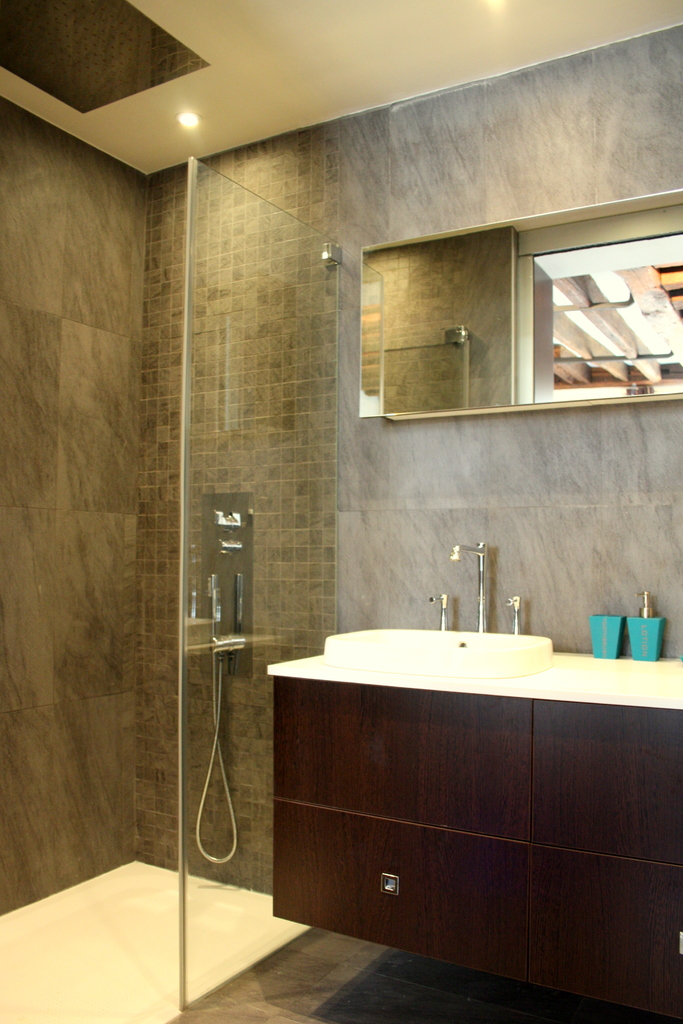tap: (454, 535, 491, 638)
